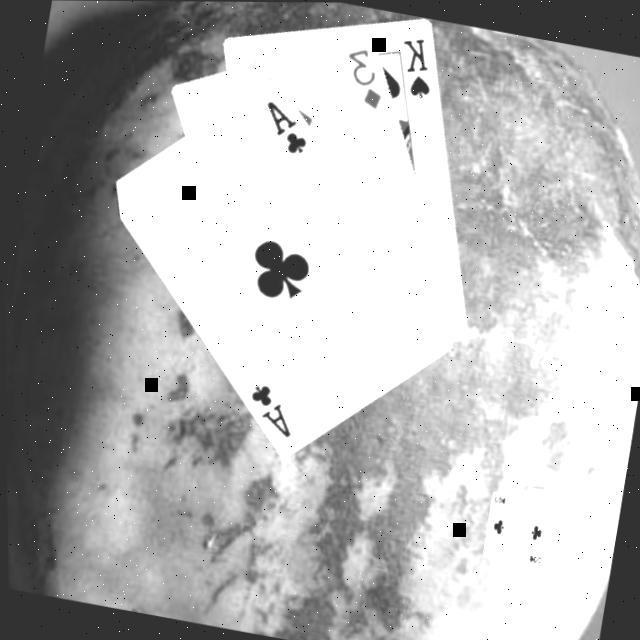3D: (336, 42, 394, 114)
AC: (241, 378, 303, 442), (255, 96, 318, 158)
KS: (392, 31, 444, 103)
